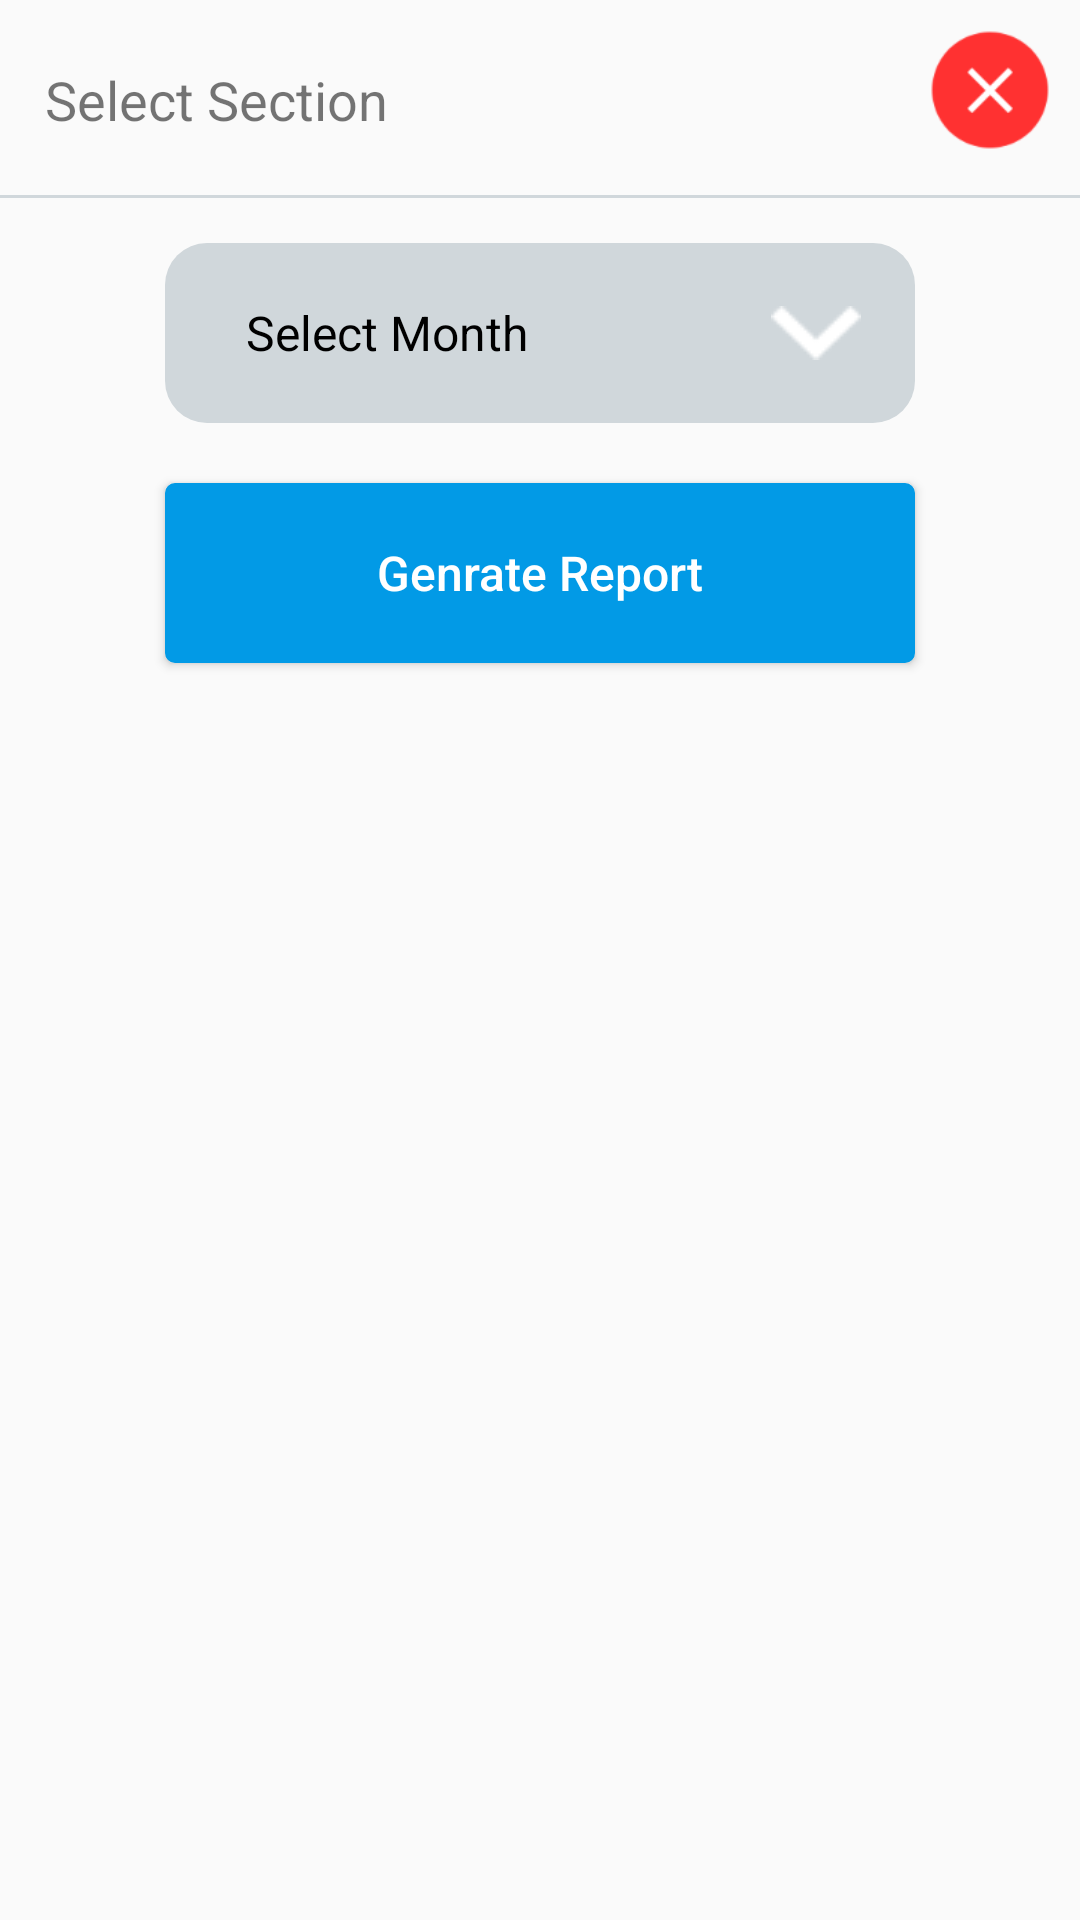

Point at icon controls on the screen. Image size 1080px×1920px, points as [x,y].
arrow down: [816,332]
